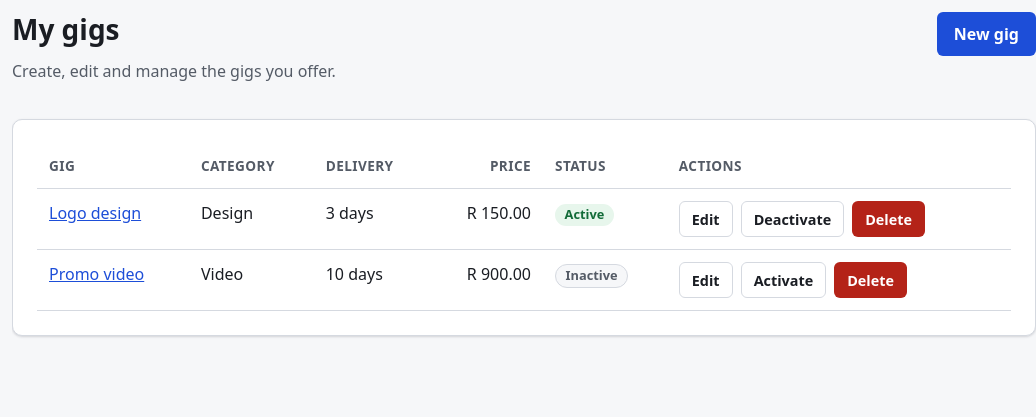
Test: My gigs › deactivates an active gig with { isActive: false }
This screenshot has width=1036, height=417.
Click the button "Deactivate".
click(792, 219)  # box [741,201,844,237]
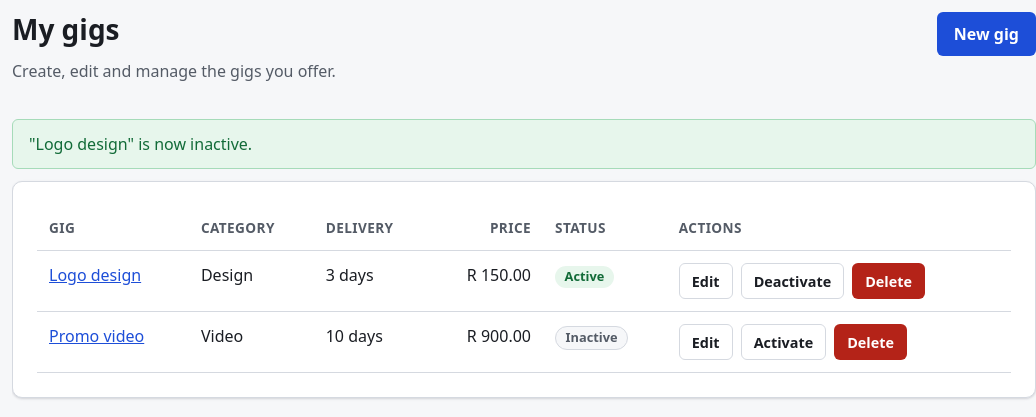
Now the text "\"Logo design\" is now inactive." is shown, box [12,119,1035,169]
